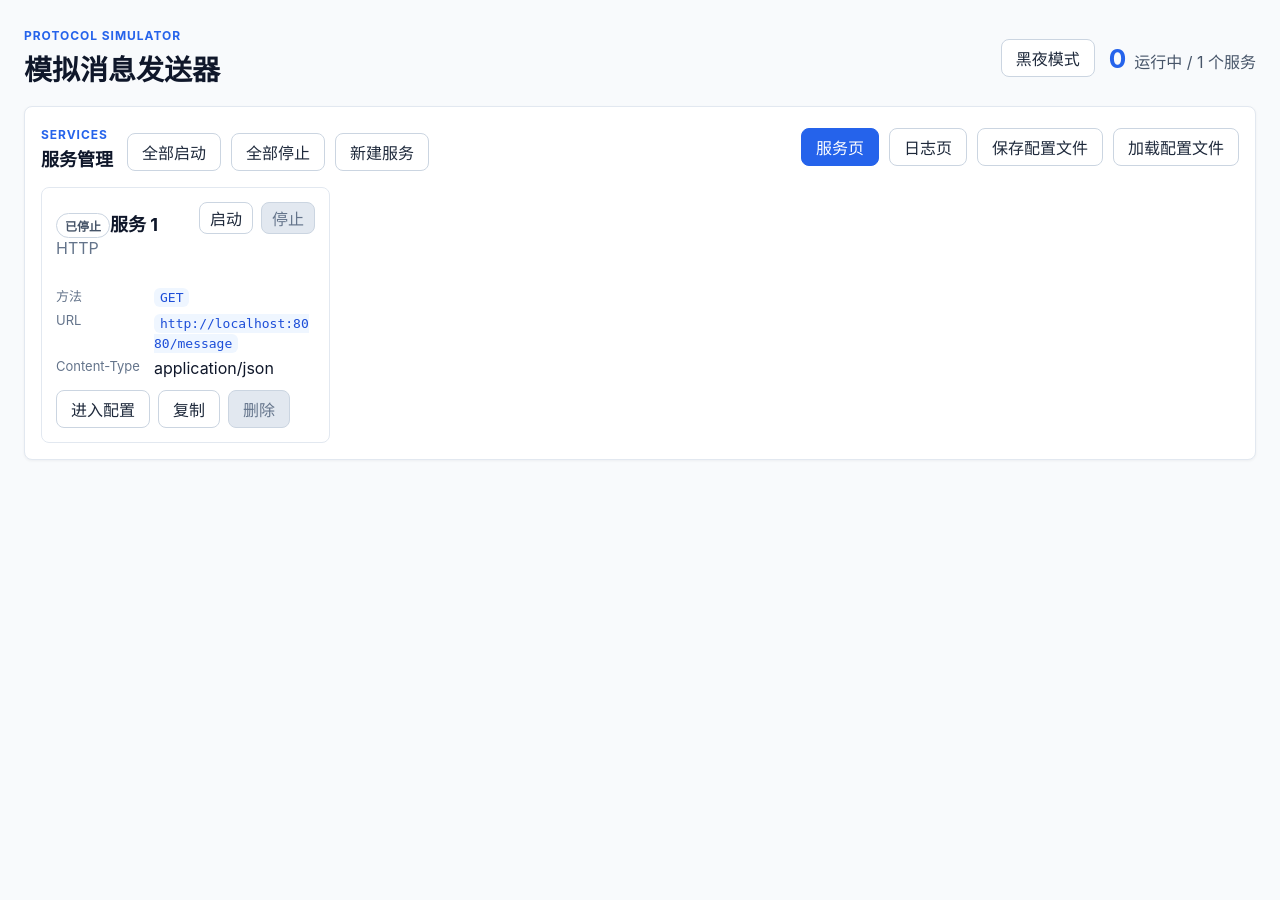
Scenario: runtime controls › opens configuration from the service card but not from card controls
Click the button "启动": [226, 218] box [199,202,253,234]
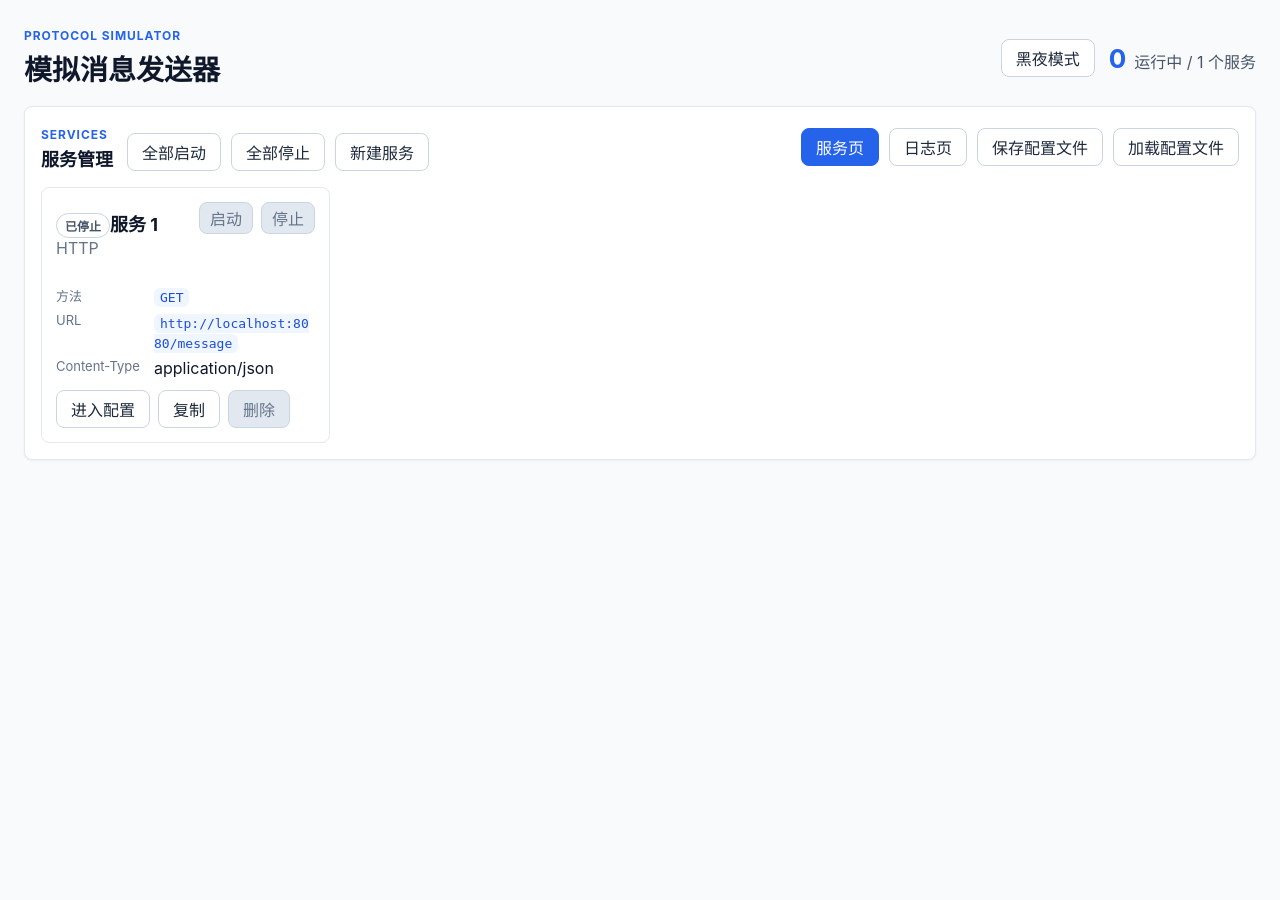
Expected: the field labelled "协议" is not shown
Click the element named "服务卡片 服务 1": [186, 315] box [41,187,330,443]
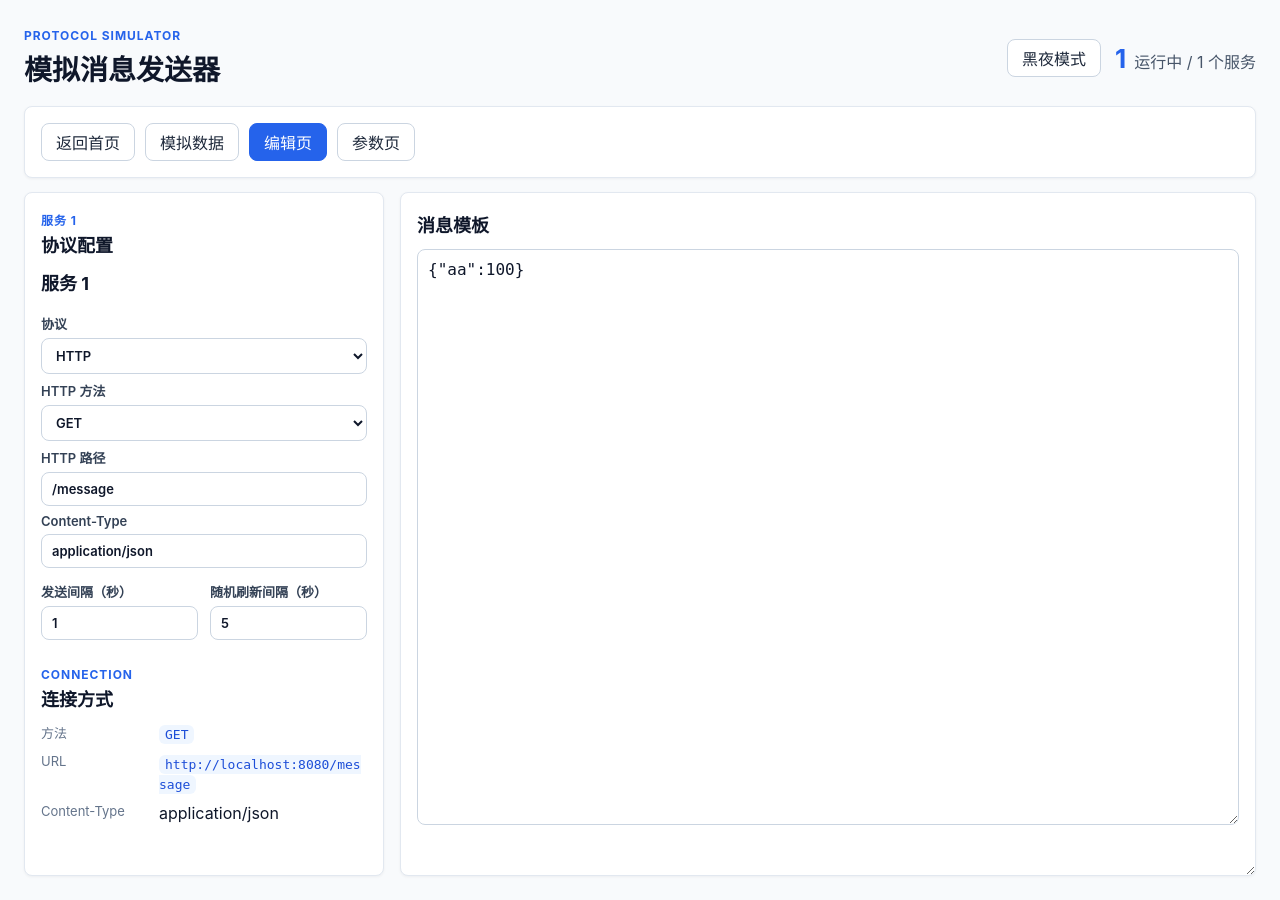
Now the dropdown labelled "协议" is shown, box [41,338,367,374]
